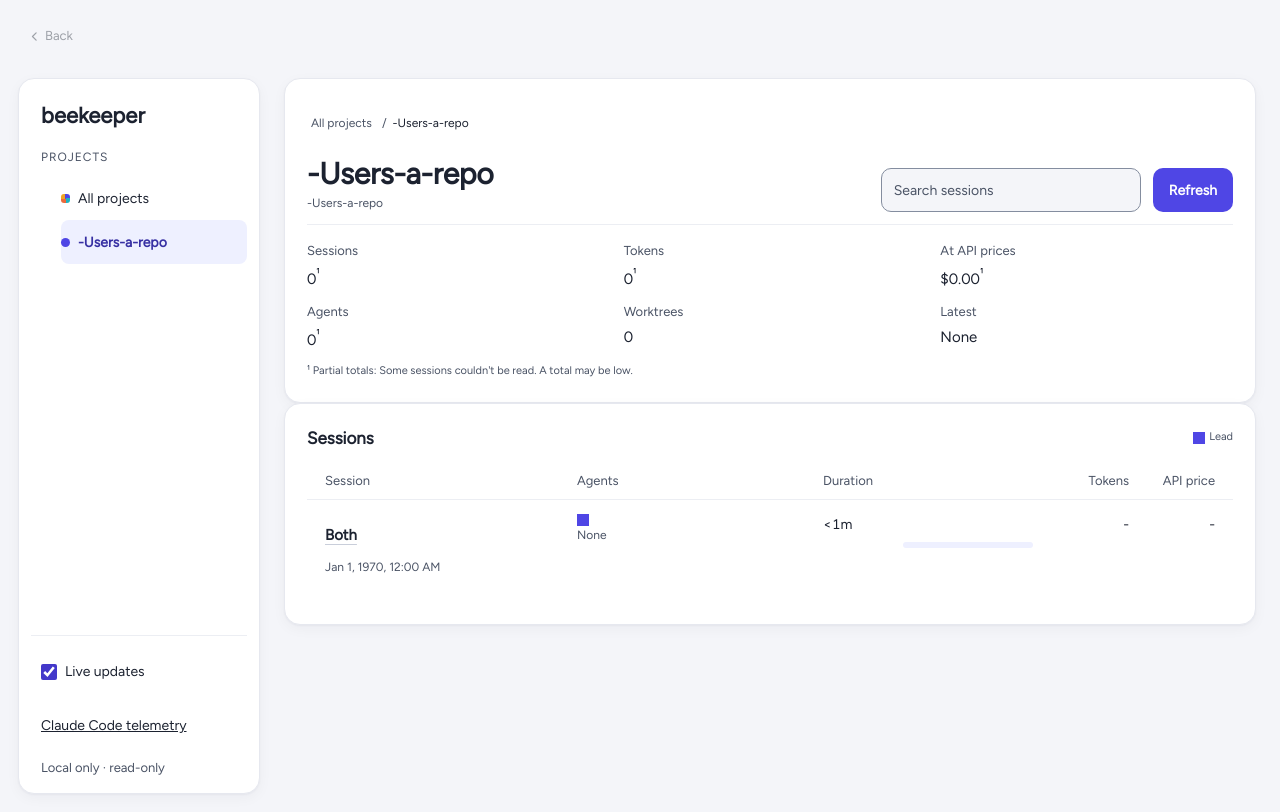
session search by workflow run › names the workflow rather than a subagent when both match
Type "explore" into the search field labelled "Search sessions" at (1011, 190), box [881,168,1141,212]
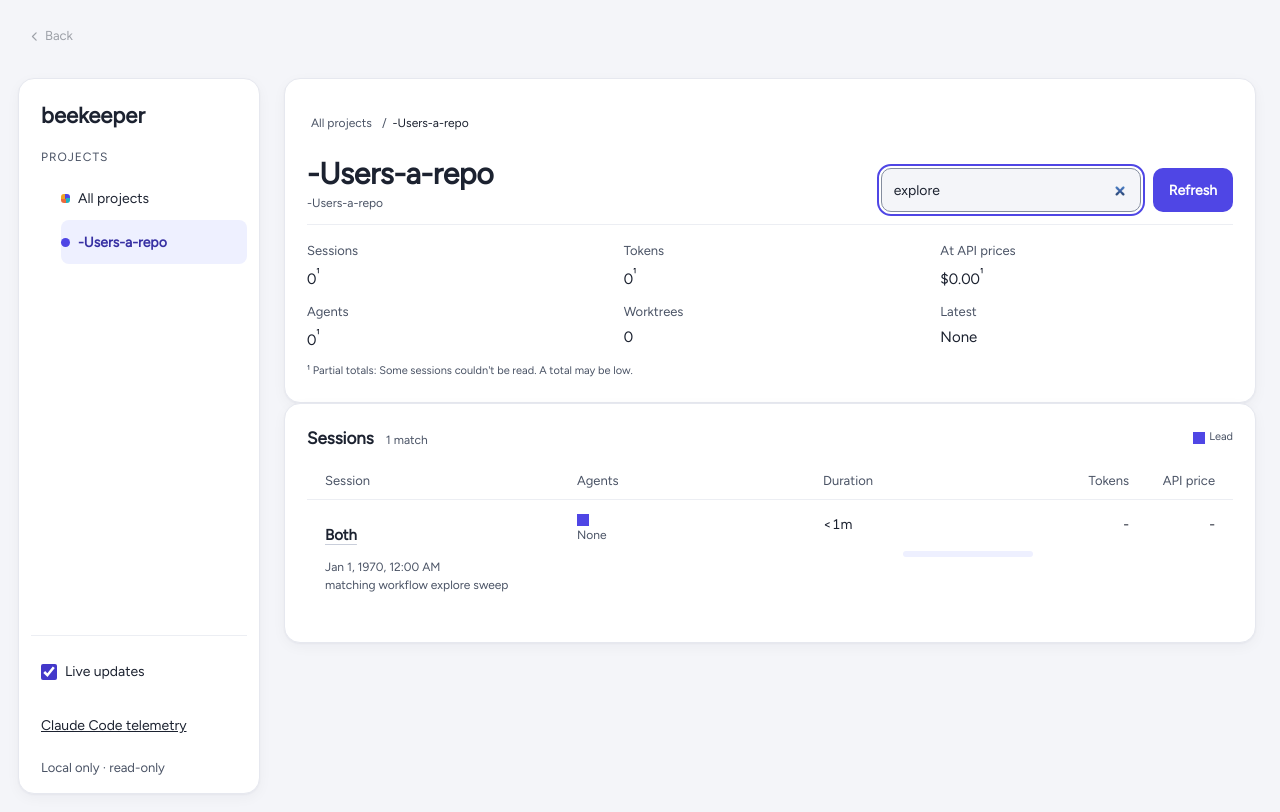
Expected: the text "matching workflow explore sweep" is shown, [325,578,508,592]
